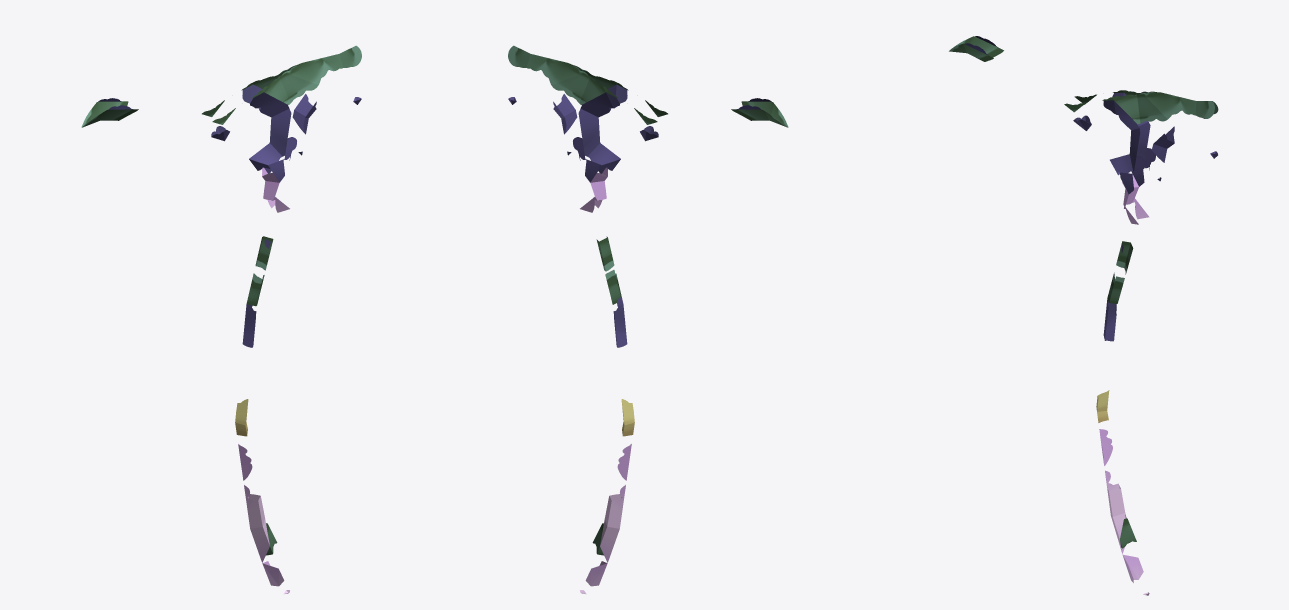
File: poormelissa.obj
The picture shows the model from 3 angles, left to right: view 1: azimuth 30°, elevation 25°; view 2: azimuth 150°, elevation 25°; view 3: azimuth 330°, elevation 25°; orthographic projection. The views are drawn at different scales.
Visible parts, largest first — view 1: obj2_Mesh; view 2: obj2_Mesh; view 3: obj2_Mesh.
Part boxes in pixels (x1,y1,x2,y2): obj2_Mesh: (81, 45, 361, 594); obj2_Mesh: (508, 45, 788, 594); obj2_Mesh: (949, 36, 1218, 595).
Size of the model in its own units: 18.36 by 24.27 by 1.12.
